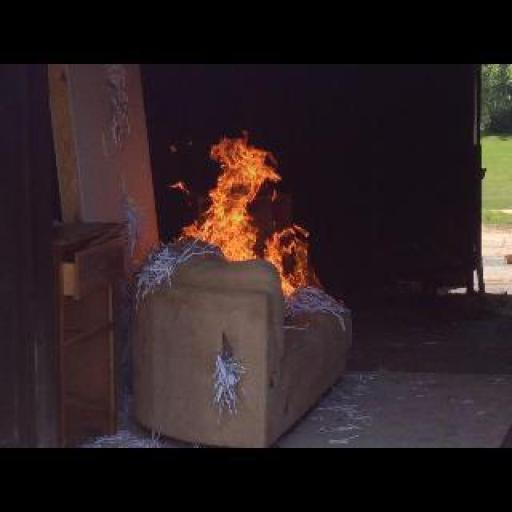smoke: (187, 123, 341, 298)
